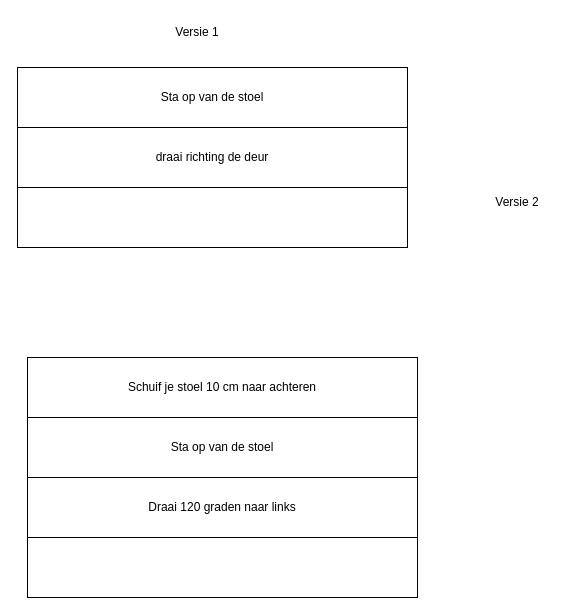
This 565x615 diagram has some shape labels left out. Here are the shapes that lost their labels. From the top down, the centre of each, then its label:
the point at 212,217: Loop naar de deur
the point at 222,567: loop 5 stappen voorruit
